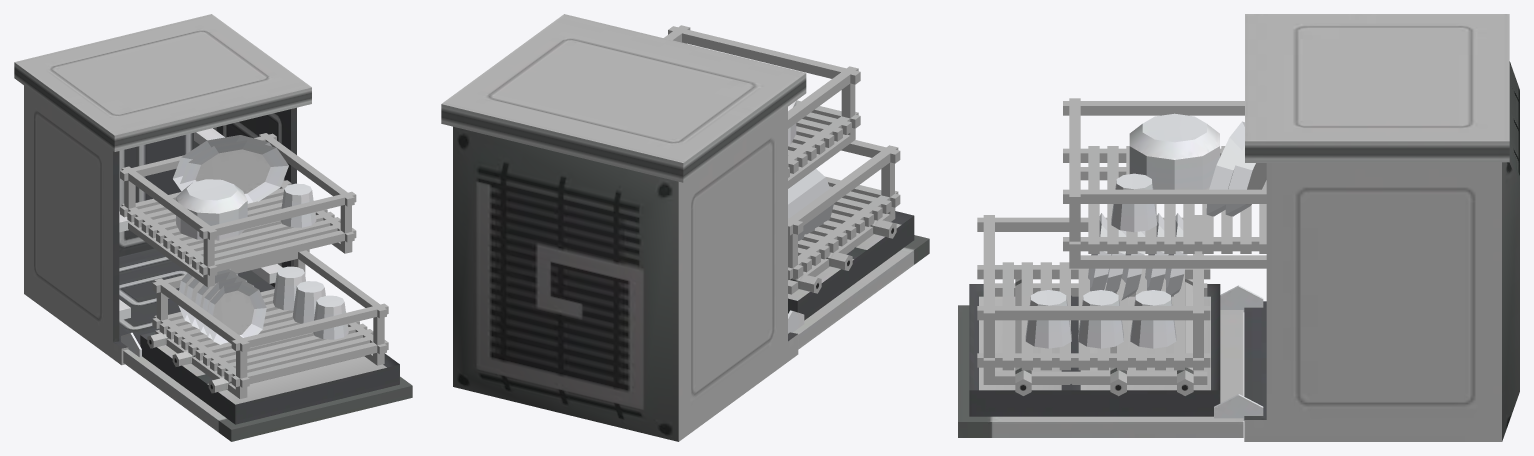
Rendered from dishwasher.glb.
3 views of the same model, side by side, from view 1: azimuth 30°, elevation 25°; view 2: azimuth 150°, elevation 25°; view 3: azimuth 270°, elevation 25° (orthographic). The views are drawn at different scales.
Parts seen in each view (by area): view 1: Door; view 2: Door; view 3: Door.
Boxes of the visible parts, box(x1,y1,x2,y2) form: Door: box(14, 14, 412, 441); Door: box(441, 14, 929, 441); Door: box(958, 14, 1519, 441).
Size of the model in its own units: 316 by 354 by 591.
Materials: 1 (1 with a texture image).
